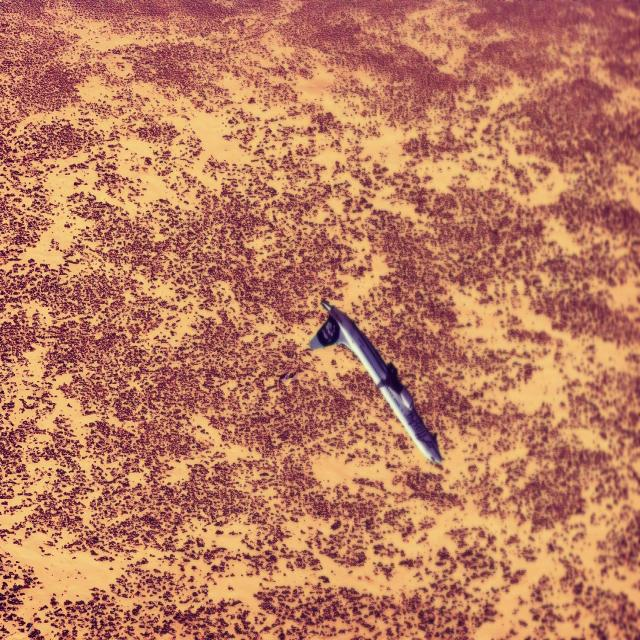airplane: (308, 299, 442, 465)
